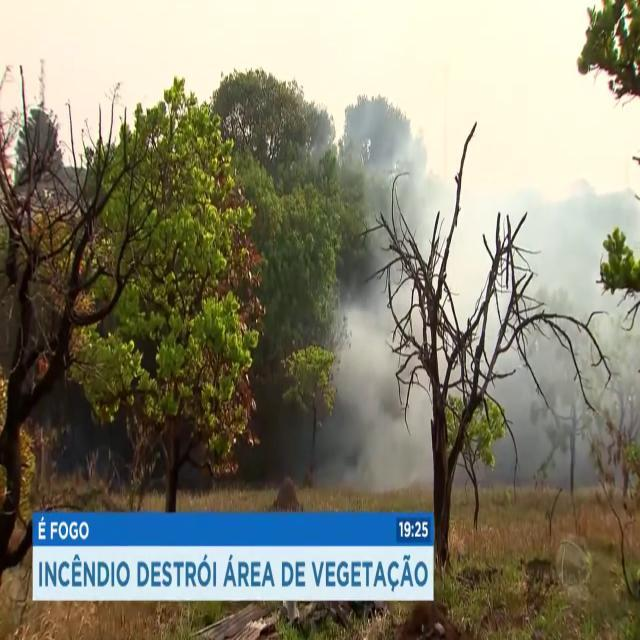Smoke: (313, 19, 633, 506)
